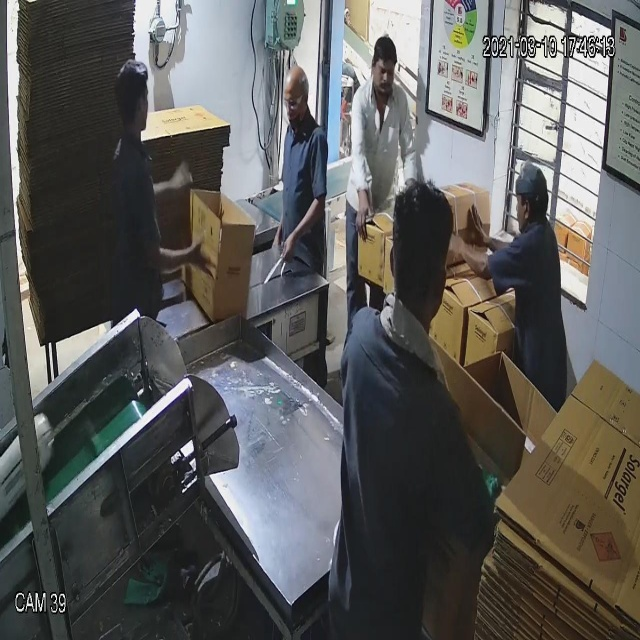Sin_guantes: (136, 218, 216, 284), (347, 120, 379, 249), (278, 194, 329, 274), (435, 218, 492, 287), (467, 200, 519, 266)
